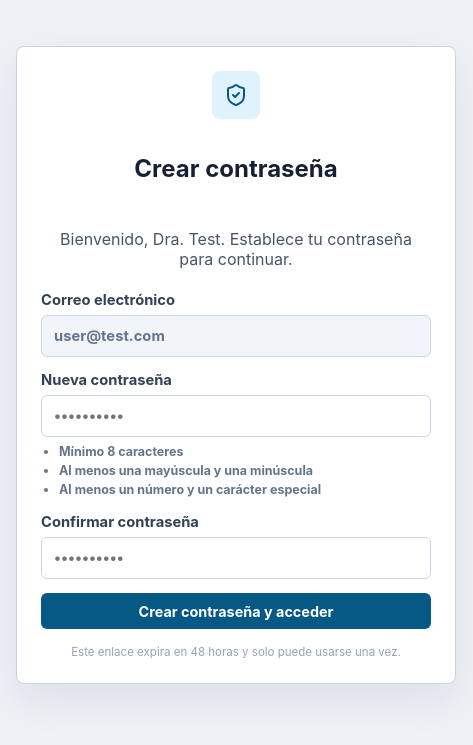
Test: SetPasswordPage › no envía si las contraseñas no coinciden
The width and height of the screenshot is (473, 745).
Type "Password123!" into the password field labelled "Nueva contraseña" at (236, 416), box [41,395,431,437]
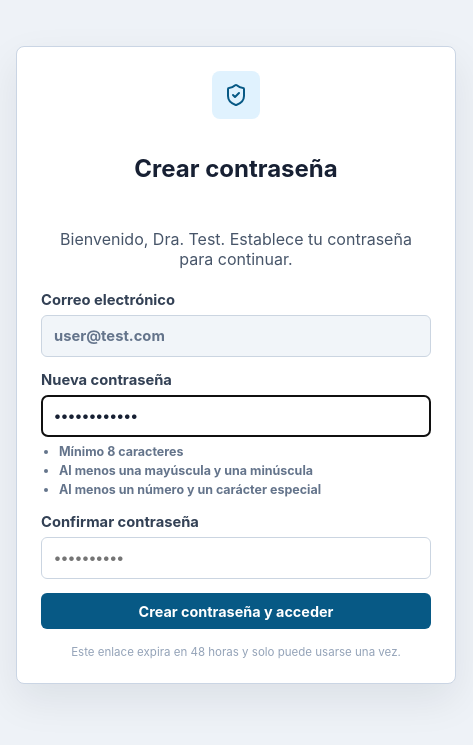
Type "OtraCosa123!" into the password field labelled "Confirmar contraseña" at (236, 558), box [41,538,431,580]
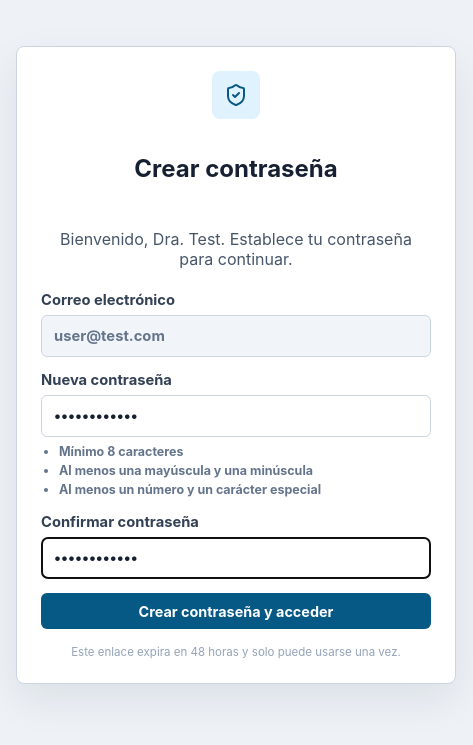
Click the button "Crear contraseña y acceder" at (236, 612), box [41,594,431,630]
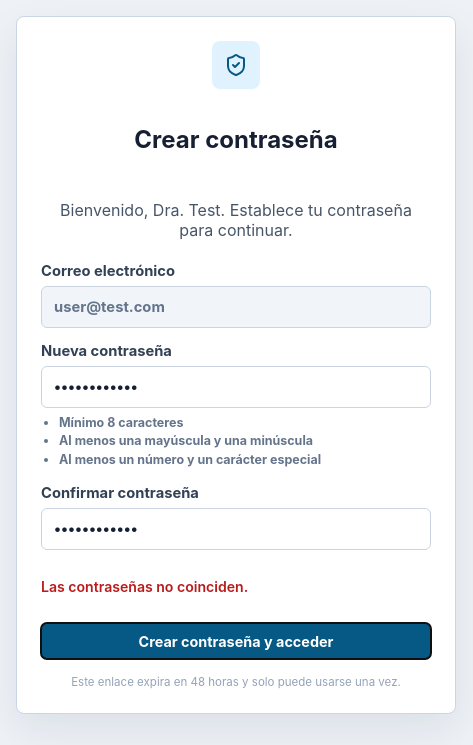
Check: the text "Las contraseñas no coinciden." is shown, box [41,578,248,595]
